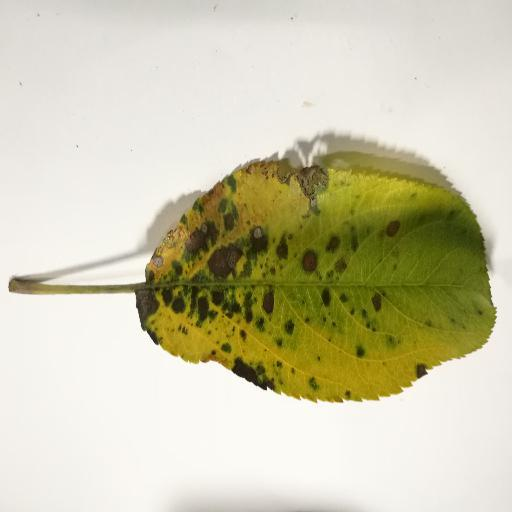Brown_Spot: (124, 164, 320, 406), (330, 223, 411, 280), (366, 291, 387, 314)
